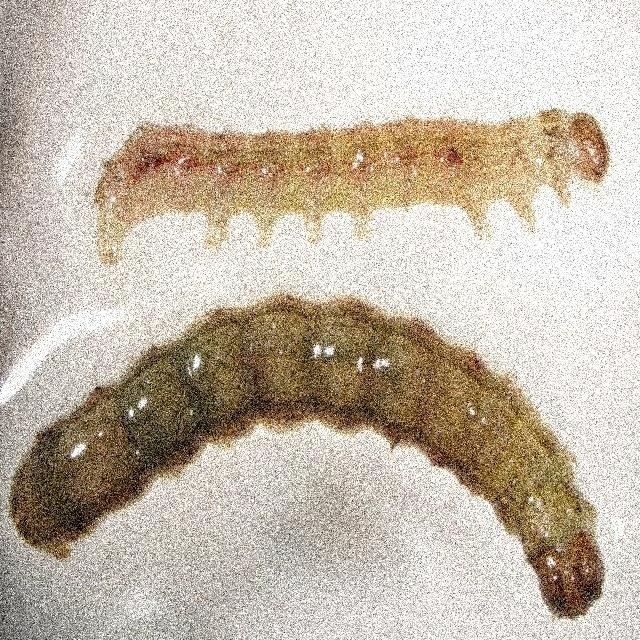Plaga: (8, 296, 605, 619), (90, 101, 610, 261)
